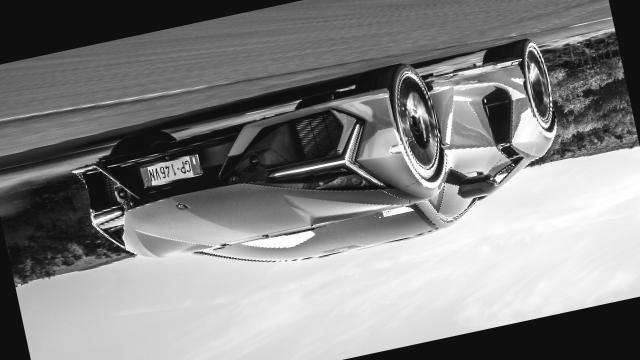sport: (51, 14, 594, 322)
